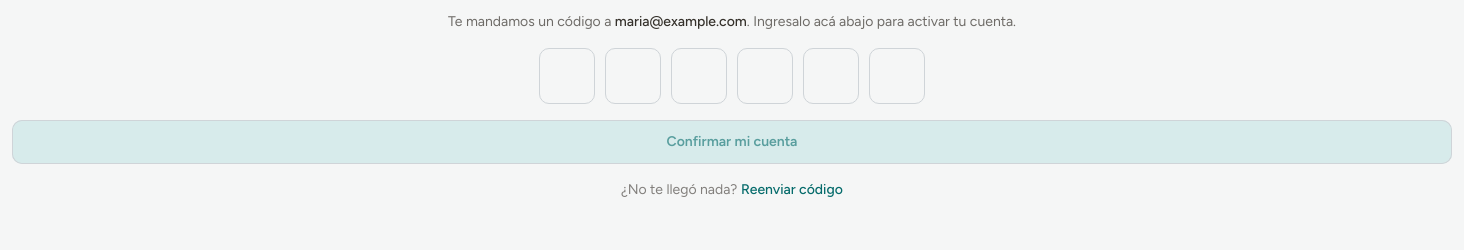
Test: ConfirmarCodigoForm › muestra el error que devuelve verificarEmailAction
Type "0" into the field named "Dígito " at (567,76), box x1=539 y1=48 x2=595 y2=104
Type "0" into the field named "Dígito " at (633,76), box x1=605 y1=48 x2=661 y2=104
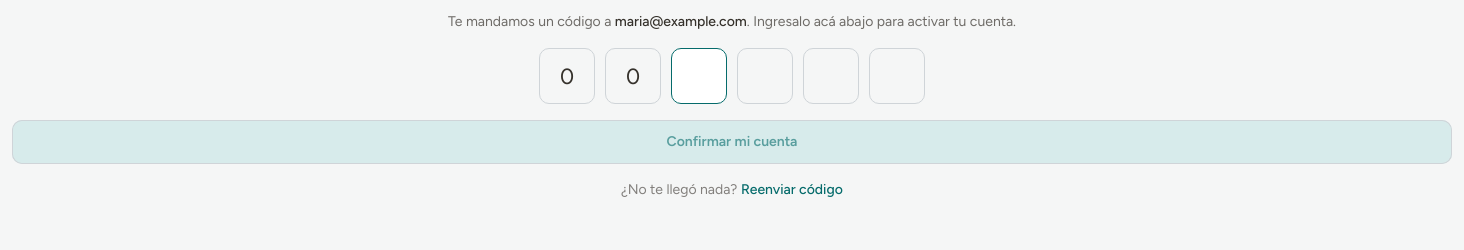
Type "0" into the field named "Dígito " at (699,76), box x1=671 y1=48 x2=727 y2=104
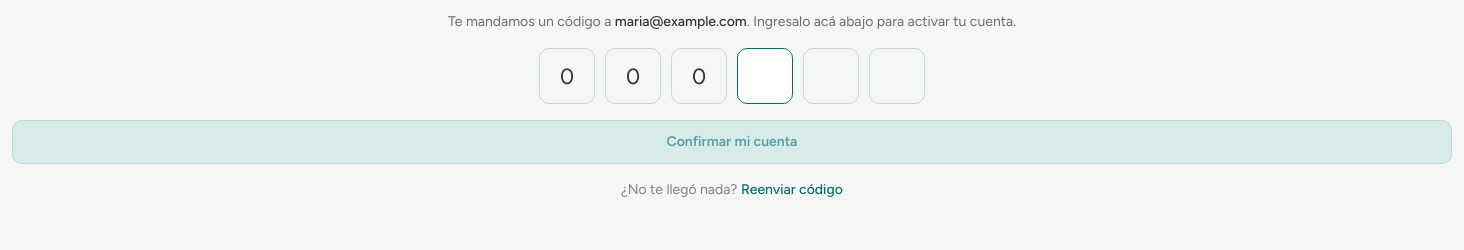
Type "0" into the field named "Dígito " at (765,76), box x1=737 y1=48 x2=793 y2=104
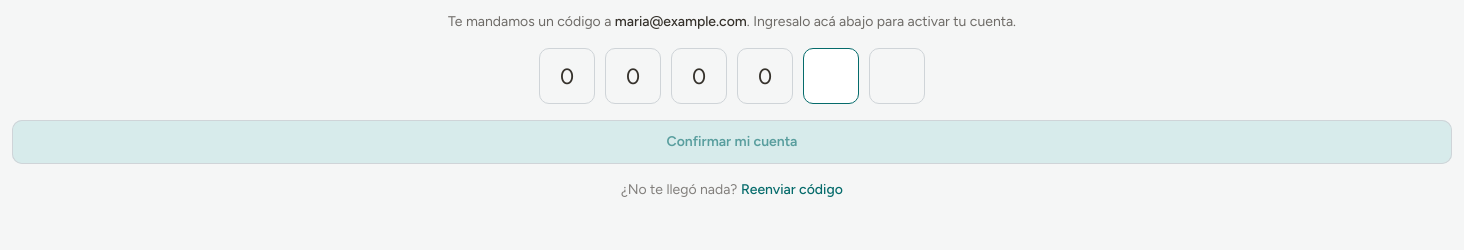
Type "0" into the field named "Dígito " at (831,76), box x1=803 y1=48 x2=859 y2=104
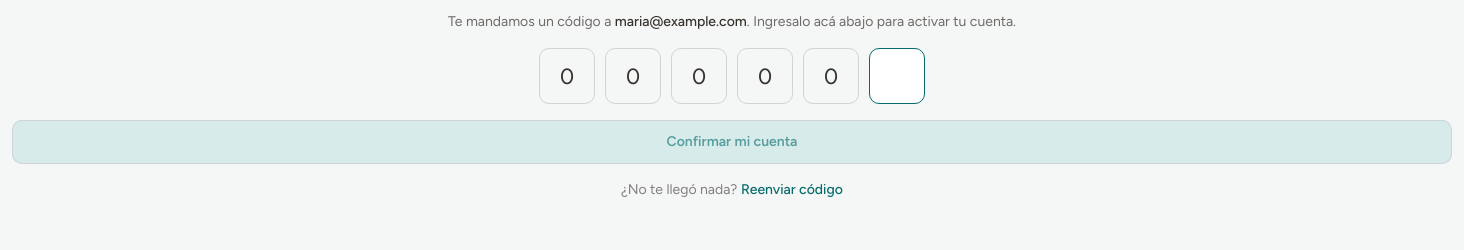
Type "0" into the field named "Dígito " at (897,76), box x1=869 y1=48 x2=925 y2=104
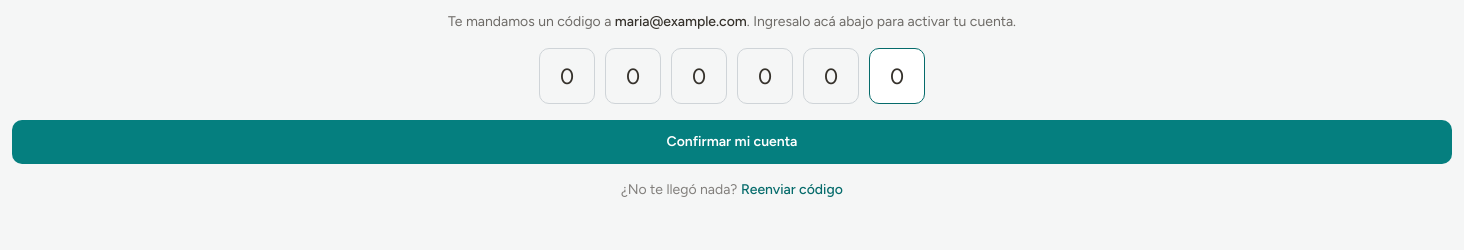
Click the button "Confirmar mi cuenta" at (732,142), box x1=12 y1=120 x2=1452 y2=164
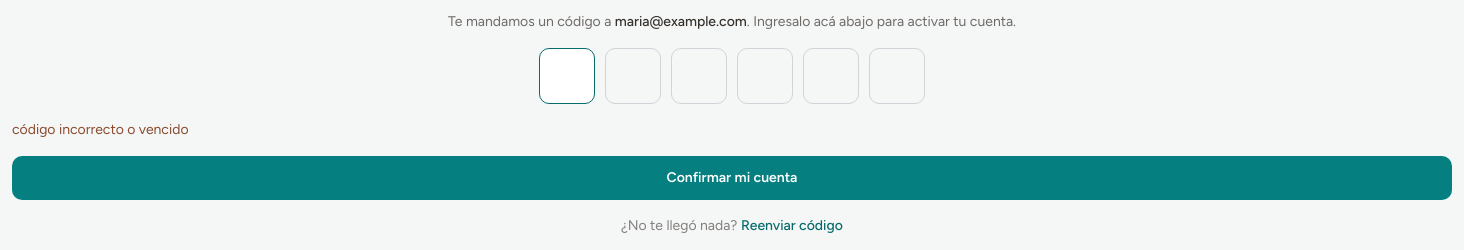
Now the message reads "código incorrecto o vencido", box x1=12 y1=121 x2=188 y2=138
